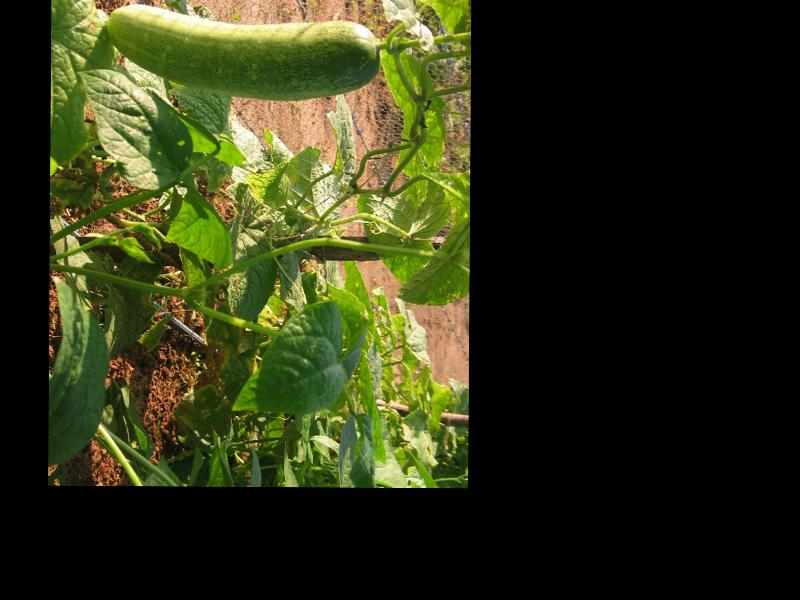Cucumber: (107, 4, 378, 100)
